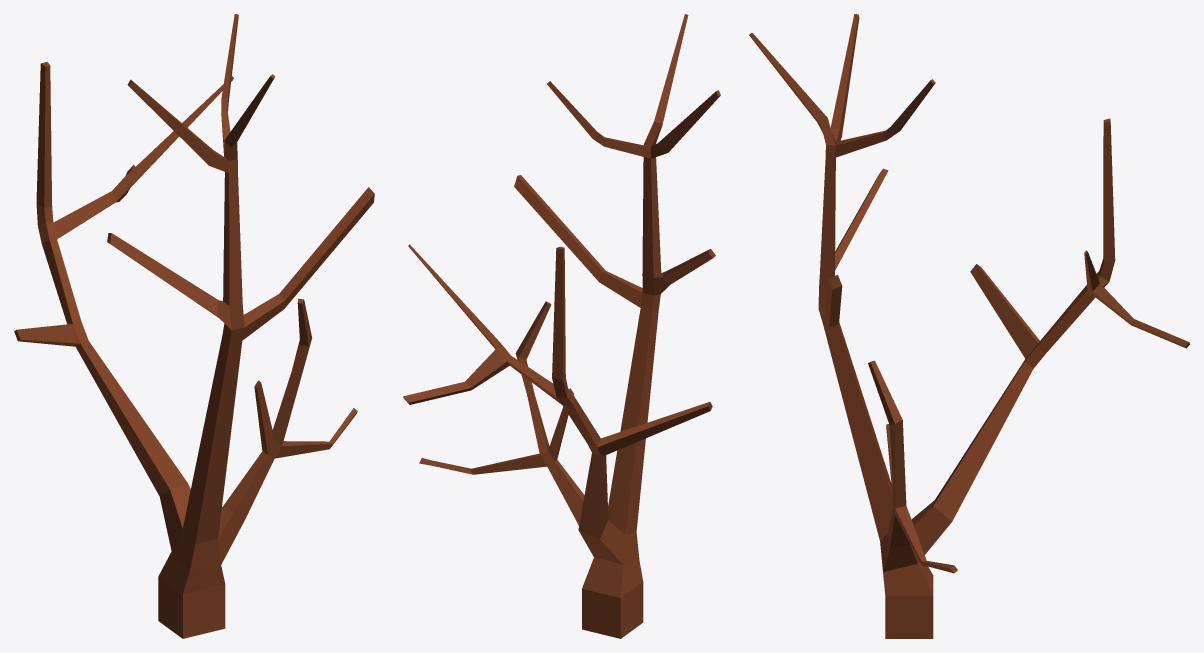
File: treeE.glb
3 views of the same model, side by side, from view 1: azimuth 30°, elevation 25°; view 2: azimuth 150°, elevation 25°; view 3: azimuth 270°, elevation 25° (orthographic). The views are drawn at different scales.
Parts seen in each view (by area): view 1: Cube; view 2: Cube; view 3: Cube.
Boxes of the visible parts, x1=… form: Cube: x1=14, y1=14, x2=374, y2=638; Cube: x1=403, y1=14, x2=720, y2=638; Cube: x1=749, y1=14, x2=1189, y2=638.
Size of the model in its own units: 1.03 by 1.82 by 1.22.
